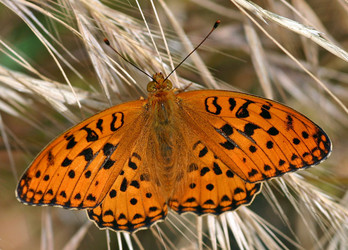Argyreus hyperbius: (13, 15, 335, 233)
butterfly: (15, 17, 337, 235)
